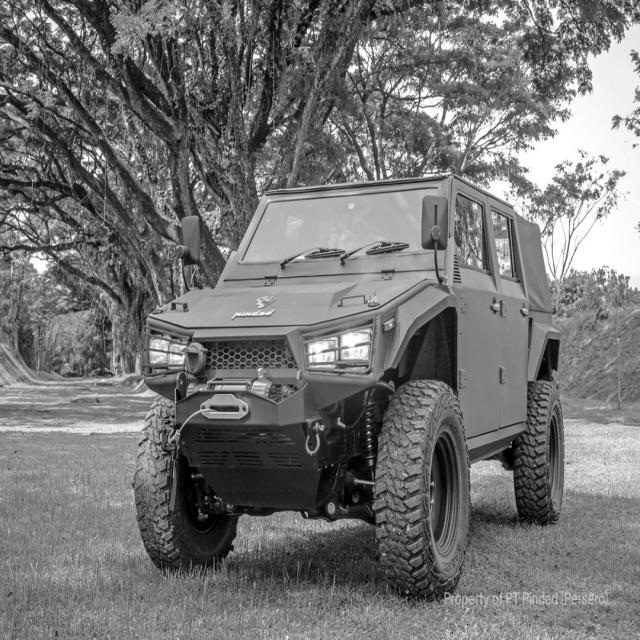Car: (134, 173, 565, 600)
Tree: (0, 0, 640, 338)
